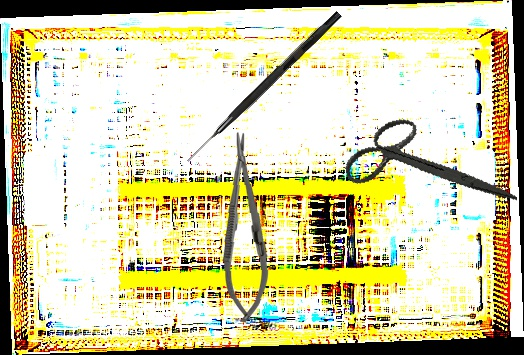Hook Surgical: (185, 9, 342, 166)
Iris Scissors: (336, 94, 518, 242)
Needle Holder: (217, 131, 272, 324)
